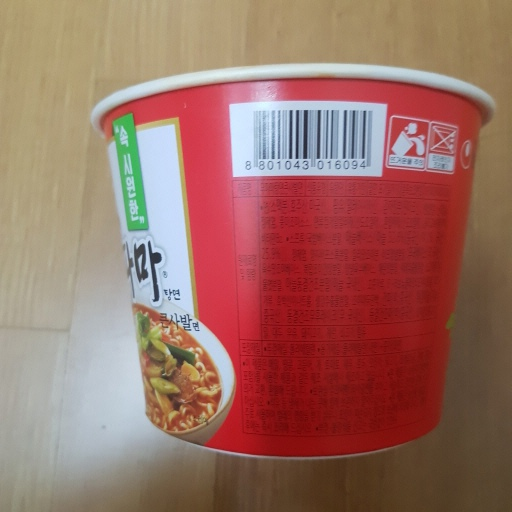Paper_1: (82, 66, 493, 454)
